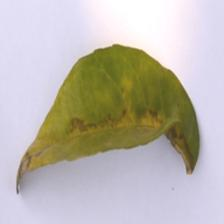greening: (14, 36, 204, 196)
